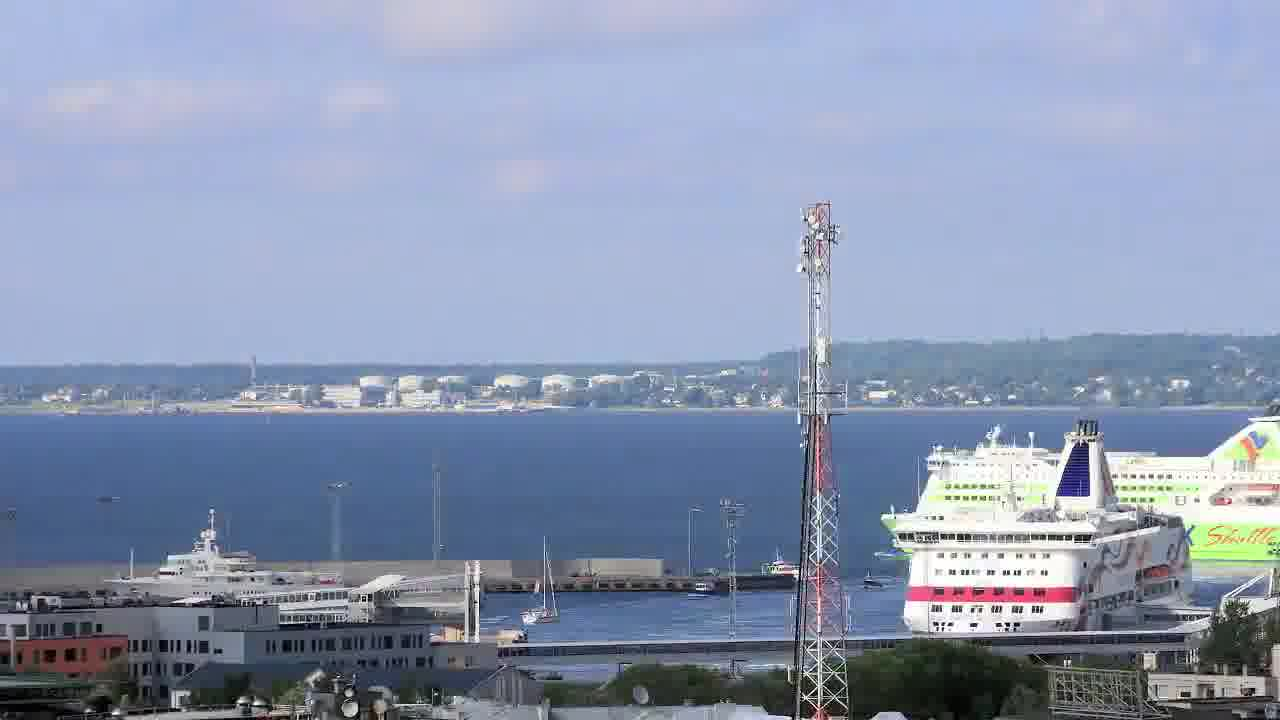type-0: (516, 548, 567, 634), (854, 565, 886, 600)
type-3: (868, 415, 1225, 638), (1050, 427, 1279, 574), (84, 511, 353, 609)
